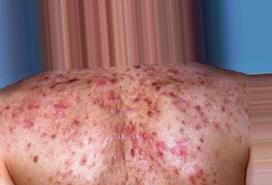Acne: (76, 105, 127, 184), (137, 62, 208, 117), (122, 120, 171, 169), (177, 114, 211, 171), (17, 114, 67, 151), (28, 142, 74, 181), (90, 71, 134, 108), (74, 110, 103, 156), (150, 76, 187, 109), (35, 80, 75, 105)
